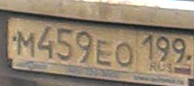character: (37, 22, 56, 63), (55, 25, 73, 64), (74, 30, 92, 68), (14, 29, 36, 59), (114, 40, 134, 70), (95, 38, 113, 67), (155, 33, 171, 64), (140, 30, 155, 63), (171, 35, 187, 65)
